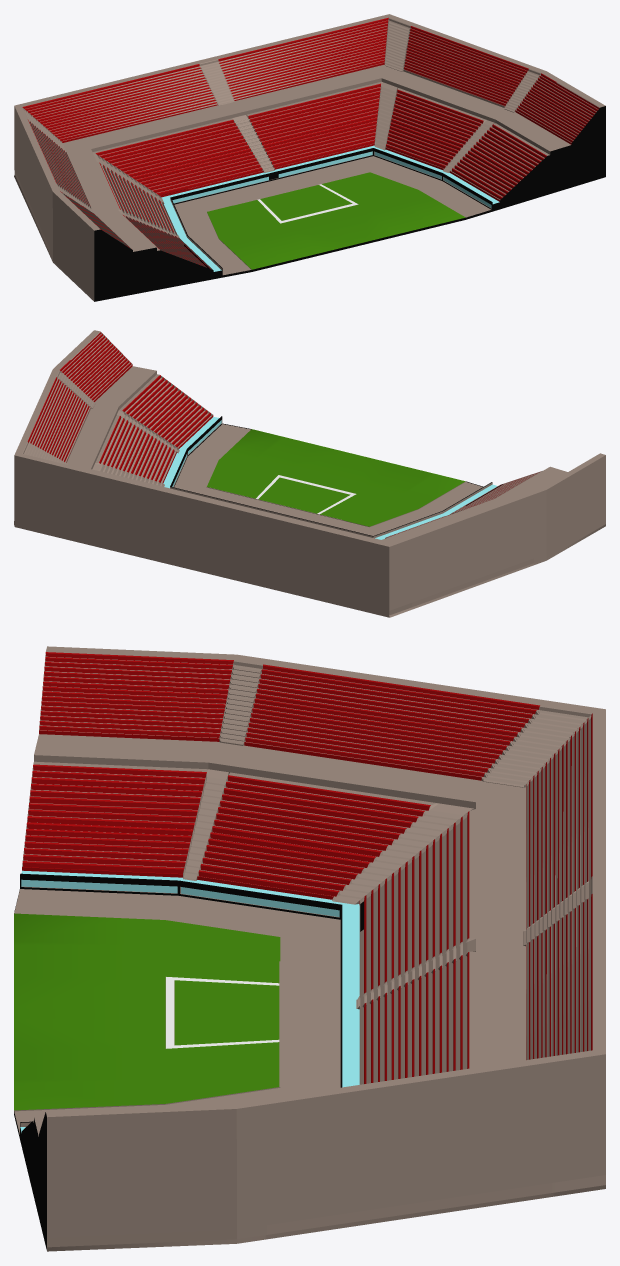
Rendered from Stadium.fbx.
3 views of the same model, one above another, from view 1: azimuth 30°, elevation 25°; view 2: azimuth 150°, elevation 25°; view 3: azimuth 270°, elevation 25° (orthographic). The views are drawn at different scales.
Visible parts, largest first — view 1: Box001; view 2: Box001; view 3: Box001.
Boxes of the visible parts, x1,y1,x2,y2 form: Box001: (14, 14, 605, 301); Box001: (14, 330, 605, 617); Box001: (14, 646, 605, 1251).
Bounding box in the file's own units: 3294 × 441 × 1751.
1 material, 1 textured.
